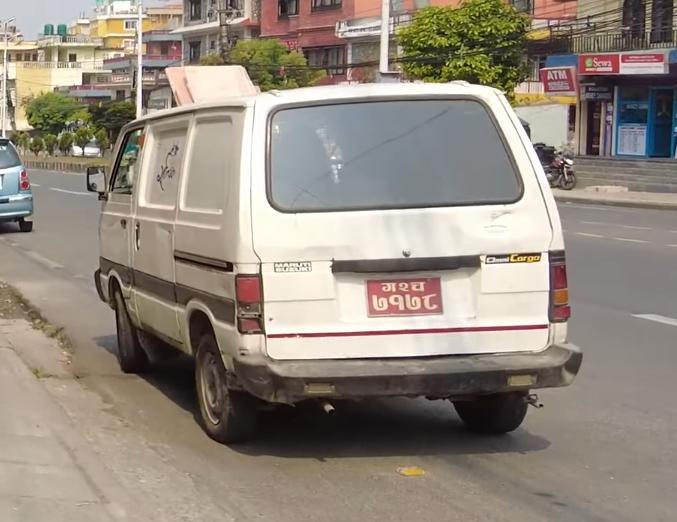car: (0, 131, 37, 236)
van: (86, 91, 597, 446)
